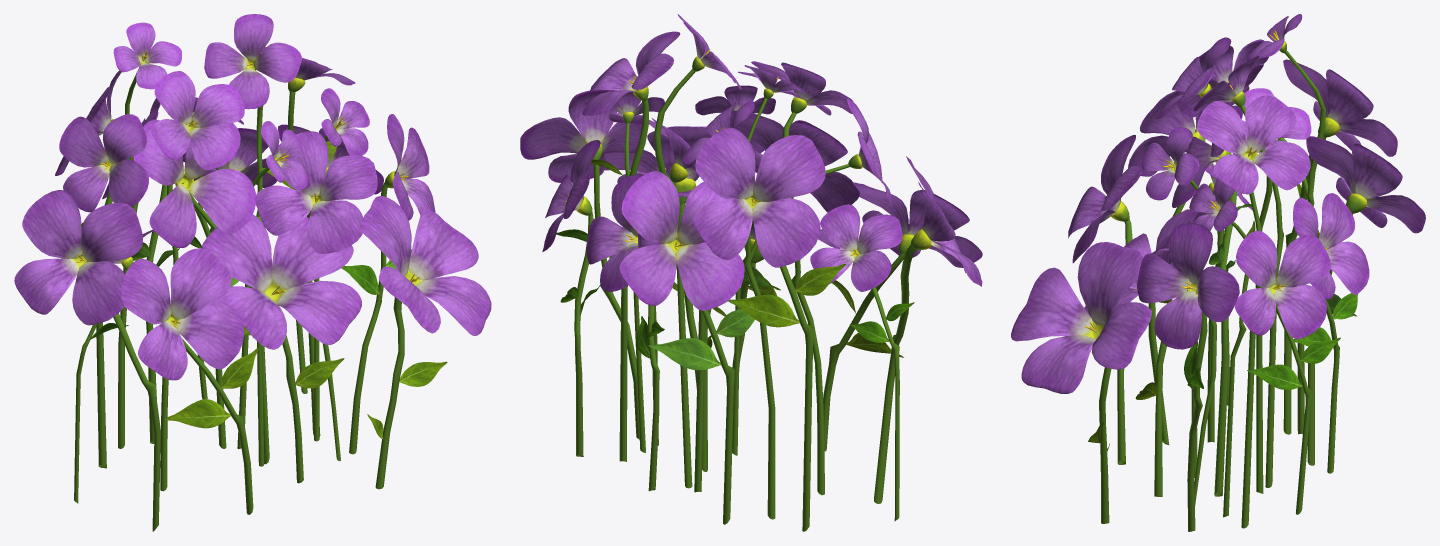
File: purple_flower_patch.glb
3 renders of one model, left to right at view 1: azimuth 30°, elevation 25°; view 2: azimuth 150°, elevation 25°; view 3: azimuth 270°, elevation 25°, orthographic. The views are drawn at different scales.
Visible parts, largest first — view 1: node_id31; view 2: node_id31; view 3: node_id31.
Boxes of the visible parts, x1,y1,x2,y2 form: node_id31: (14,14,491,531); node_id31: (520,14,982,531); node_id31: (1011,14,1425,531).
Bounding box in the file's own units: 0.4964 × 0.512 × 0.4211.
Materials: 1 (1 with a texture image).
